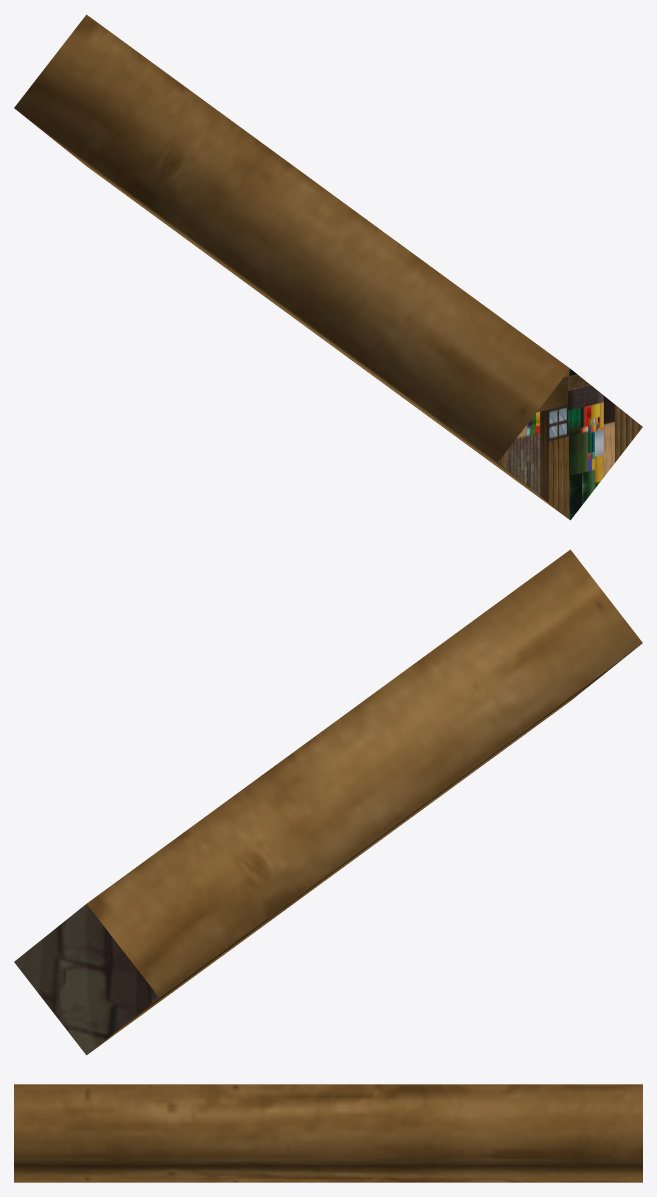
Rendered from Fence_pole.fbx.
The picture shows the model from 3 angles, top to bottom: view 1: azimuth 30°, elevation 25°; view 2: azimuth 150°, elevation 25°; view 3: azimuth 270°, elevation 25°; orthographic projection. The views are drawn at different scales.
Parts seen in each view (by area): view 1: Fence_pole; view 2: Fence_pole; view 3: Fence_pole.
Boxes of the visible parts, x1,y1,x2,y2 form: Fence_pole: [14, 14, 642, 520]; Fence_pole: [14, 549, 642, 1055]; Fence_pole: [14, 1084, 642, 1182].
Size of the model in its own units: 2.61 by 2.61 by 15.06.
